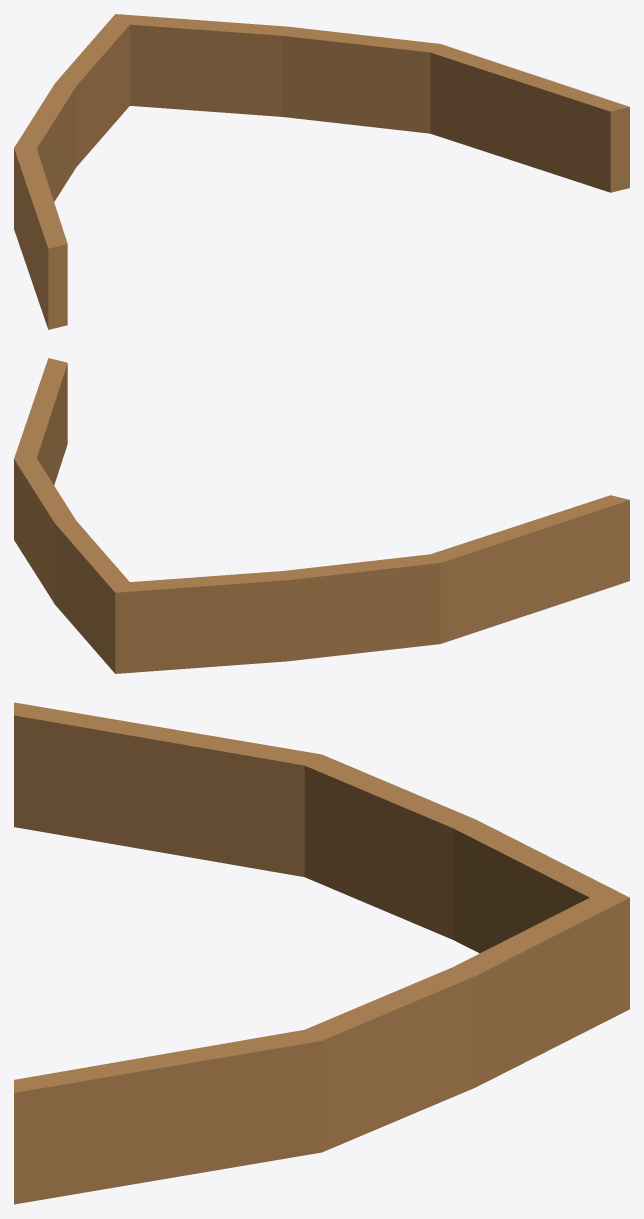
Rendered from TOP_BOW.glb.
The picture shows the model from 3 angles, top to bottom: view 1: azimuth 30°, elevation 25°; view 2: azimuth 150°, elevation 25°; view 3: azimuth 270°, elevation 25°; orthographic projection. The views are drawn at different scales.
Size of the model in its own units: 6 by 0.8 by 4.
